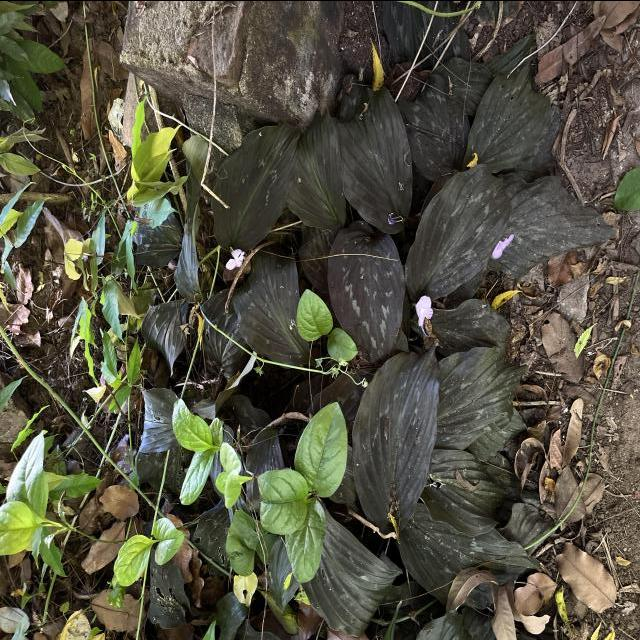Kaempferia galanga linn: (350, 336, 442, 539), (402, 160, 514, 303), (208, 116, 302, 254), (332, 82, 414, 235), (325, 216, 408, 366), (285, 102, 348, 235)
